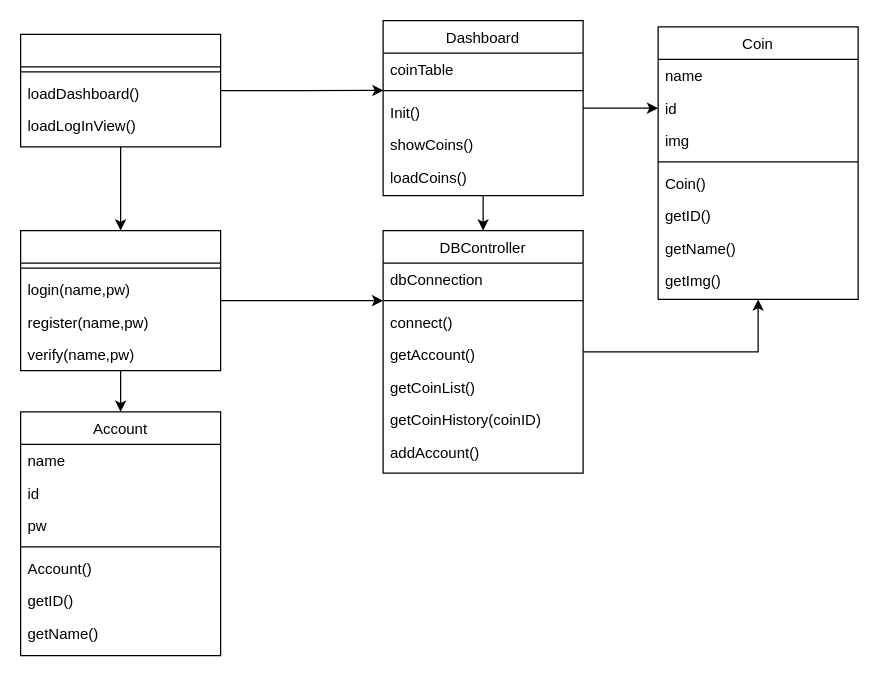
Image size: 879x676. Some labels were removed from this diagram. Each missing label, with the box of its shape:
AccController: (19, 229, 221, 371)
GUIController: (19, 33, 221, 147)
